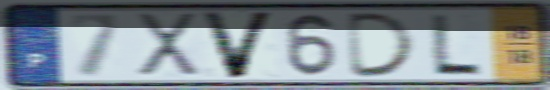6: (283, 11, 340, 78)
7: (67, 11, 123, 79)
D: (345, 10, 421, 80)
L: (427, 11, 484, 77)
V: (197, 9, 280, 81)
X: (134, 11, 204, 80)
